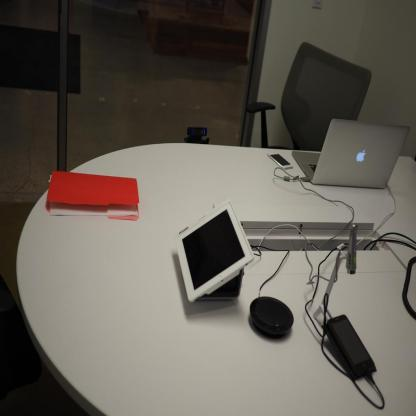board: (306, 111, 400, 200)
